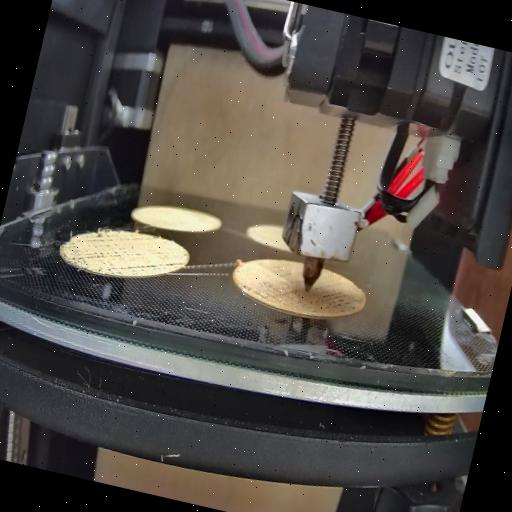under_extrusion: (60, 221, 162, 282), (256, 278, 358, 324), (162, 258, 186, 277), (236, 280, 255, 298)
